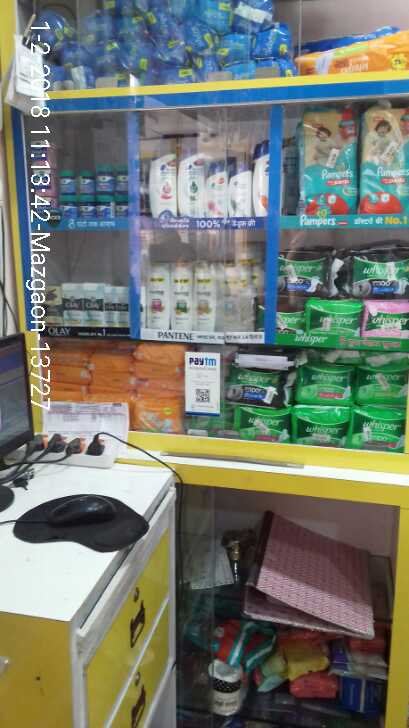beauty: (245, 137, 275, 222), (144, 145, 174, 213), (178, 146, 206, 217), (167, 259, 192, 331), (194, 263, 216, 329), (146, 257, 165, 329), (203, 163, 227, 220), (103, 276, 126, 330), (232, 163, 252, 221), (81, 284, 100, 331), (63, 286, 83, 329)
pharmacy: (296, 129, 356, 214), (363, 105, 409, 204), (347, 247, 408, 298), (295, 360, 348, 410), (354, 406, 409, 449), (291, 404, 350, 444), (305, 298, 364, 337), (277, 253, 327, 295), (354, 365, 409, 400), (239, 401, 288, 437), (366, 299, 407, 337), (95, 192, 113, 222), (55, 165, 74, 193), (96, 163, 115, 191), (76, 164, 93, 194), (76, 197, 96, 221), (56, 195, 74, 215)
